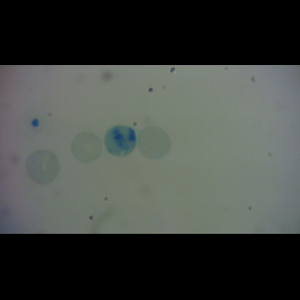aggregate reticulocyte: (103, 124, 138, 157)
erythrocyte: (23, 149, 61, 185), (69, 129, 104, 165), (137, 124, 173, 159)
